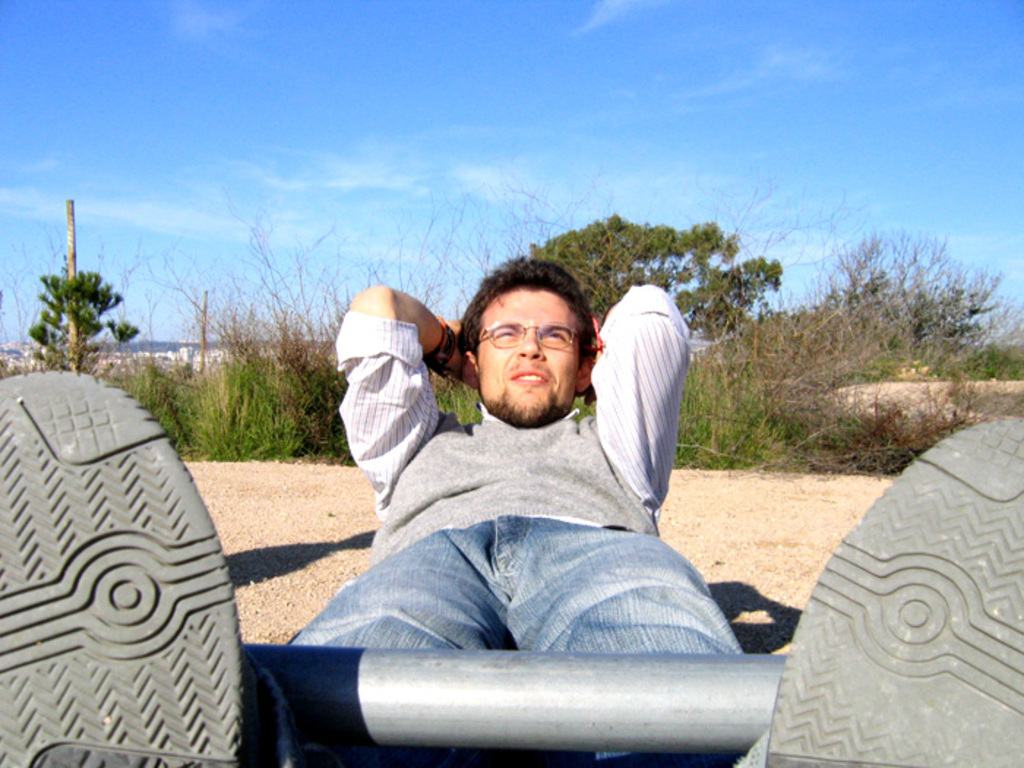Human_hand: (442, 316, 465, 376), (575, 385, 597, 407)
